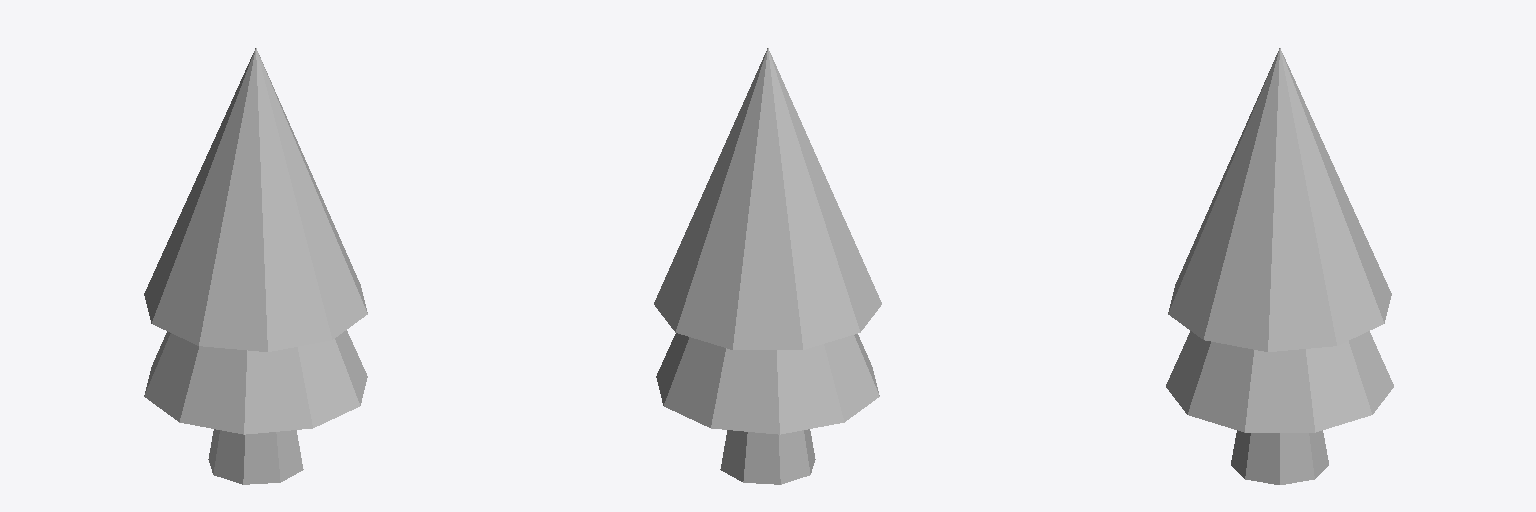
Rendered from arvore.obj.
3 renders of one model, left to right at view 1: azimuth 30°, elevation 25°; view 2: azimuth 150°, elevation 25°; view 3: azimuth 270°, elevation 25°, orthographic.
Visible parts, largest first — view 1: Cone.001; view 2: Cone.001; view 3: Cone.001.
Boxes of the visible parts, <box> form: Cone.001: <box>144,48,367,484</box>; Cone.001: <box>654,48,881,484</box>; Cone.001: <box>1166,48,1393,484</box>.
Size of the model in its own units: 2.03 by 4.11 by 2.04.